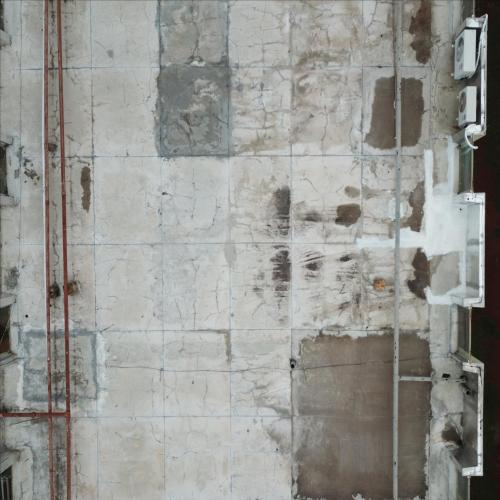conde: (452, 25, 482, 83), (454, 84, 482, 129)
